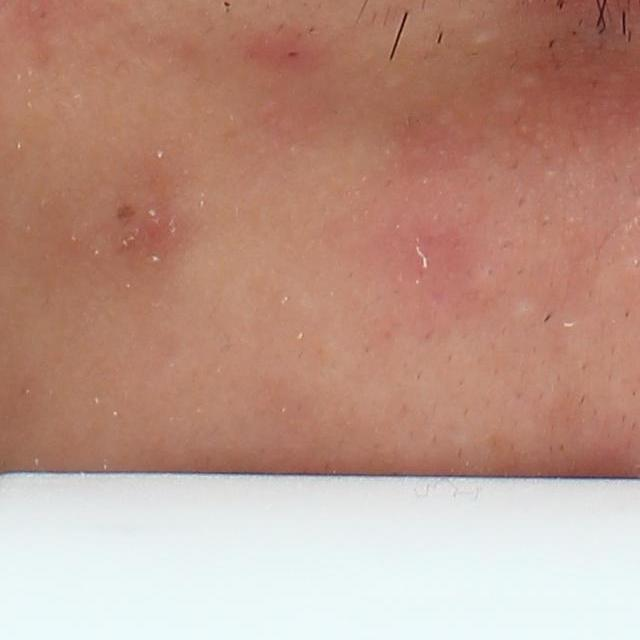hypertrophic_scar: (468, 265, 501, 307), (511, 298, 541, 326), (473, 28, 500, 43)
